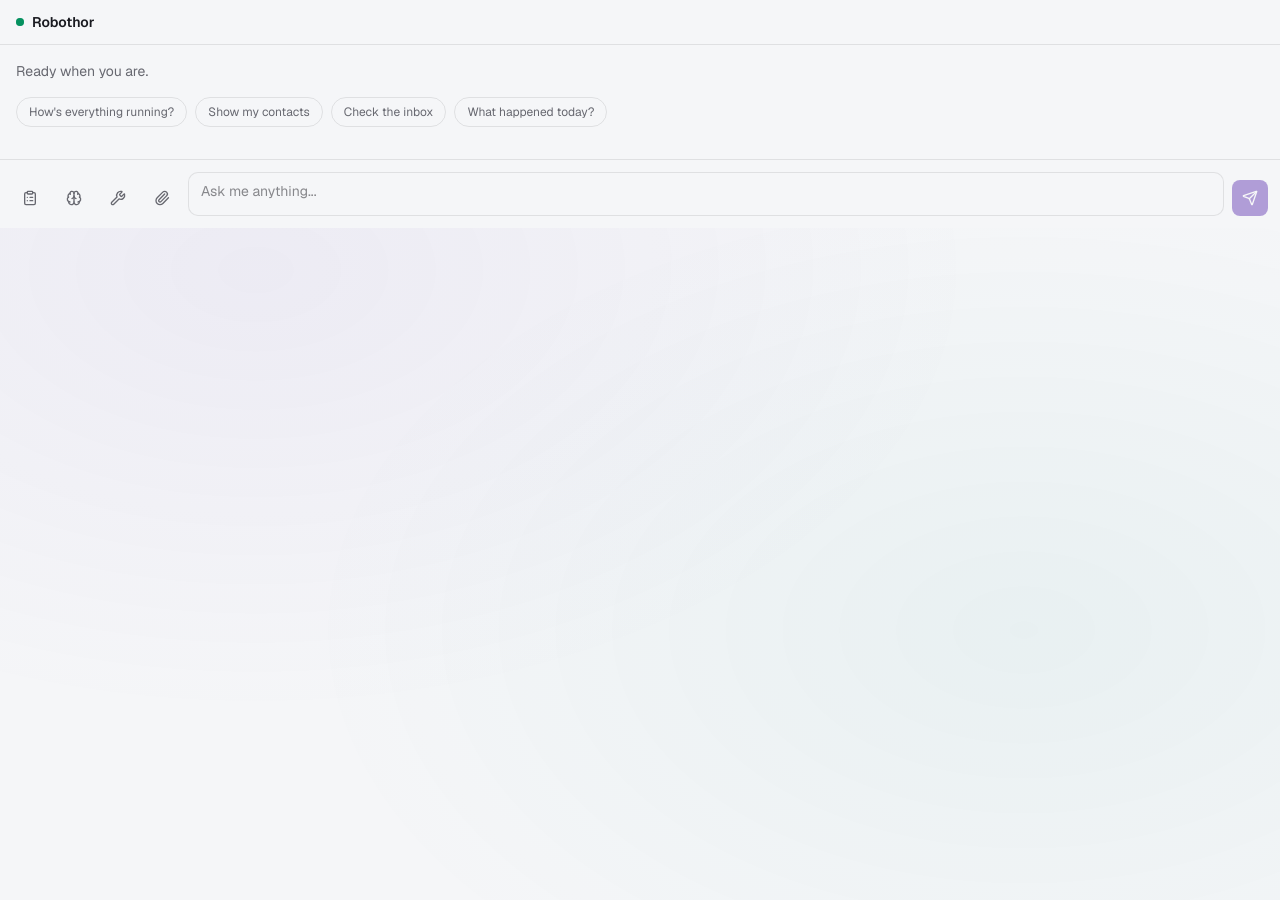
Test: ChatPanel — an agent's question, on every stream › renders the card from the /chat/send stream
The width and height of the screenshot is (1280, 900).
Type "pick a vendor for me" into the text box with test id "chat-input".
click(706, 194); type("pick a vendor for me")  # box left=188, top=172, right=1224, bottom=216
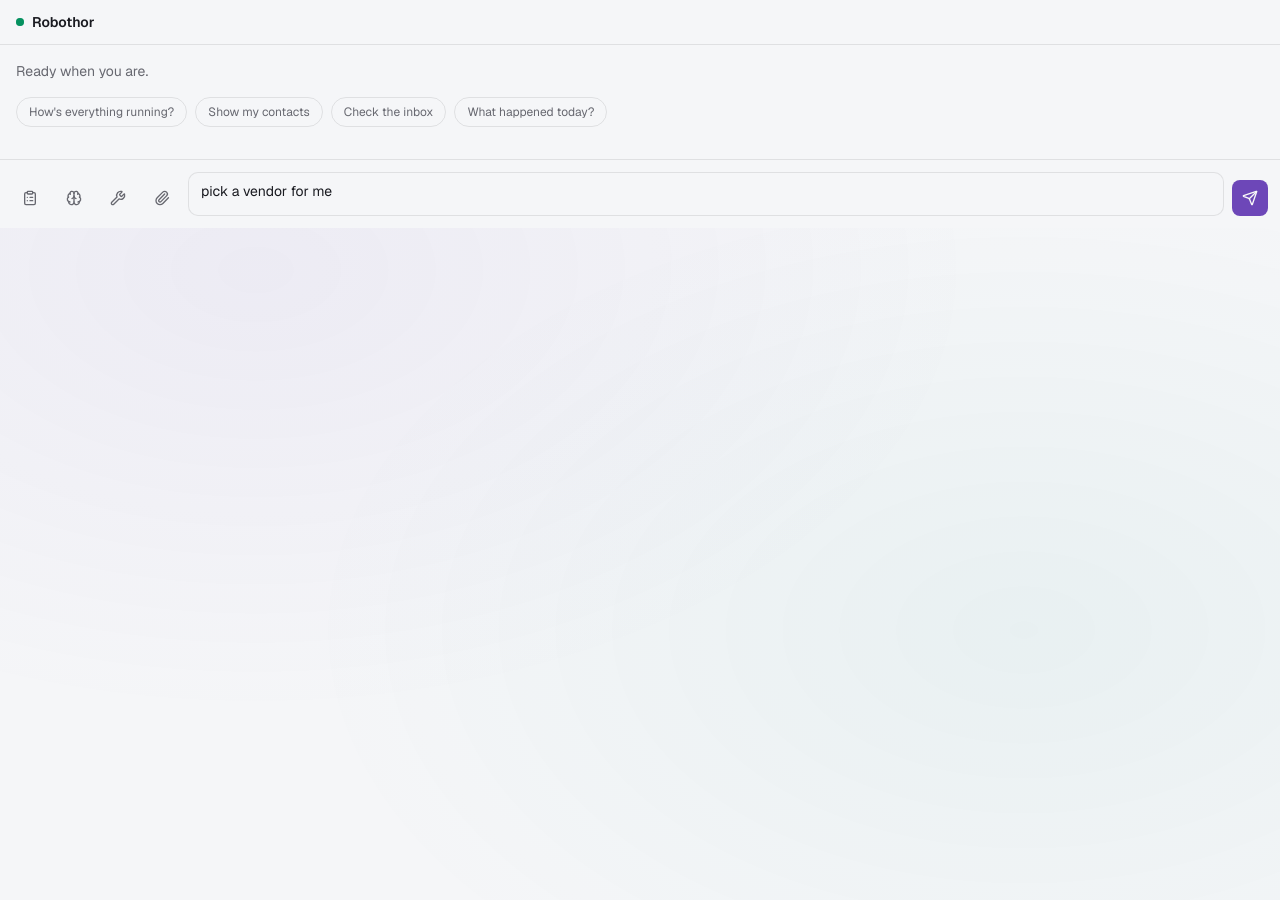
Click the button with test id "send-button".
click(1250, 198)  # box left=1232, top=180, right=1268, bottom=216
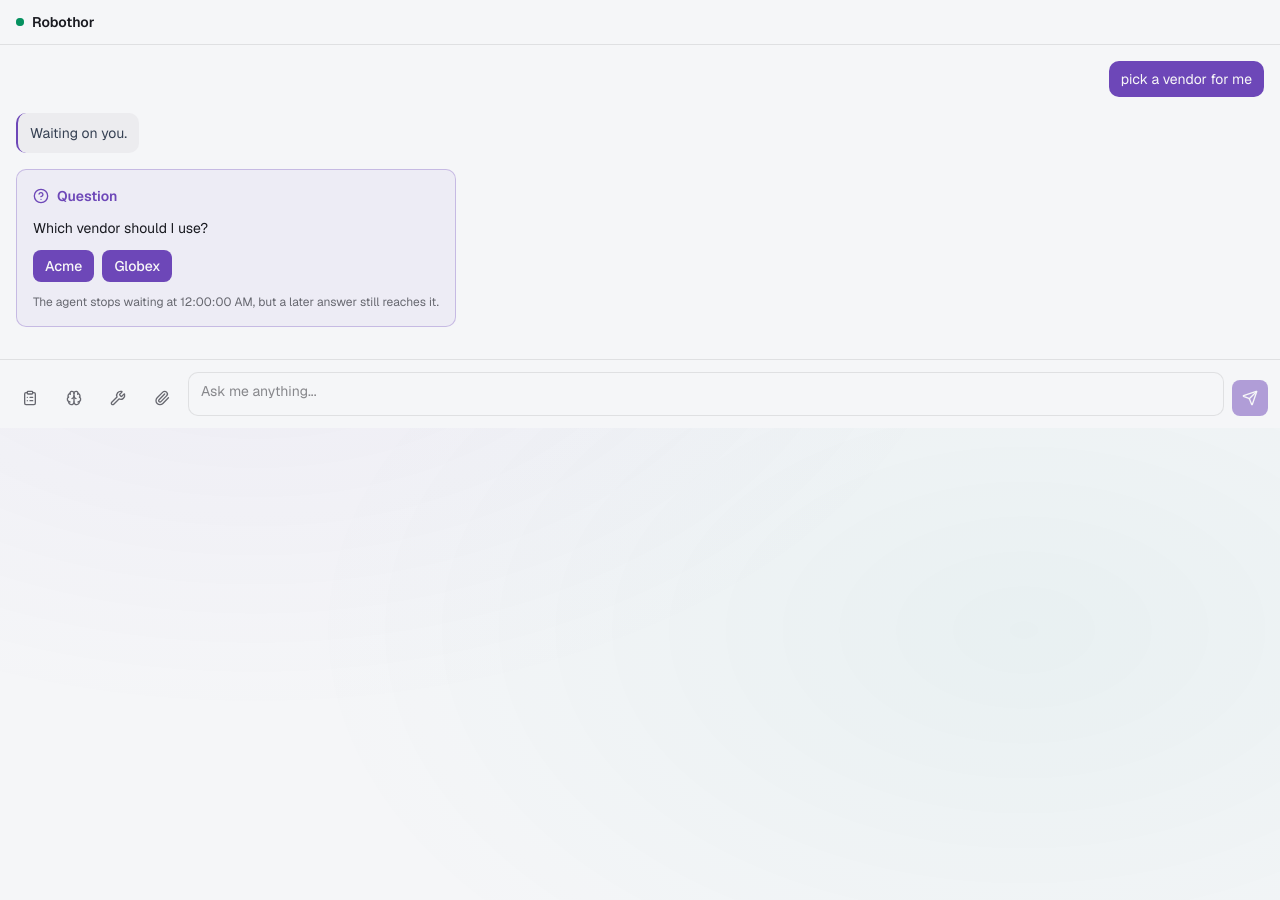
expect the element with test id "ask-card" is shown: met, box left=16, top=169, right=456, bottom=327
expect the element with test id "ask-card" shows "Which vendor should I use?": met, box left=33, top=219, right=208, bottom=237
